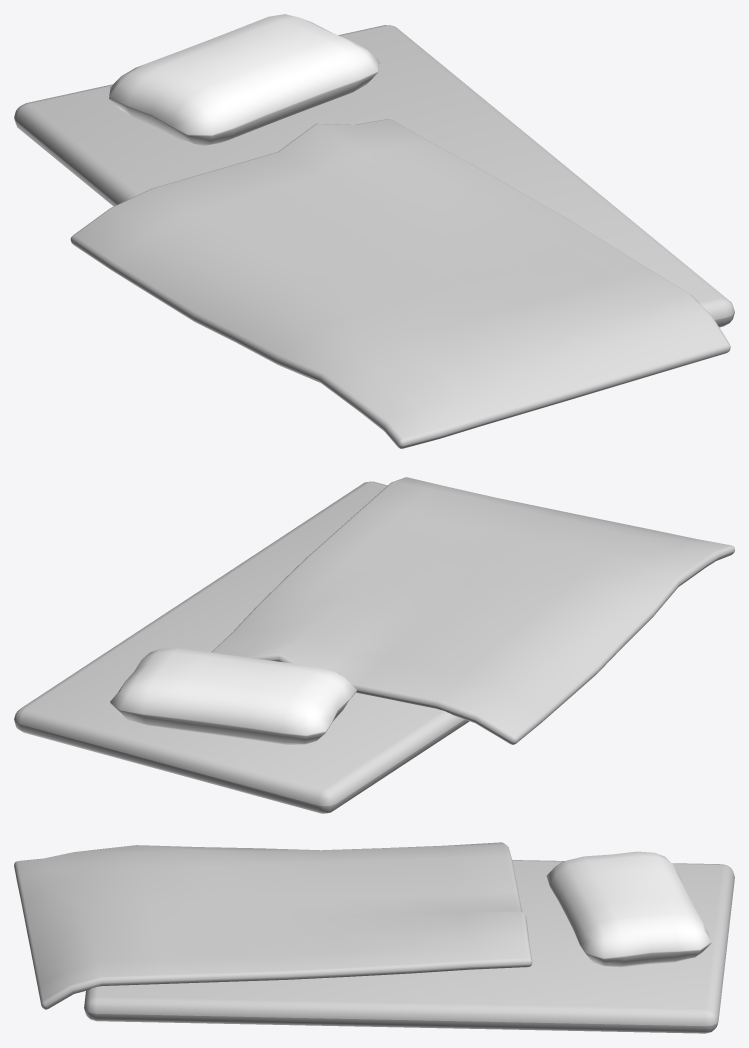
Rendered from bed3.fbx.
3 renders of one model, top to bottom at view 1: azimuth 30°, elevation 25°; view 2: azimuth 150°, elevation 25°; view 3: azimuth 270°, elevation 25°, orthographic. The views are drawn at different scales.
Visible parts, largest first — view 1: Plane.010, Plane.009, Cube.062; view 2: Plane.010, Plane.009, Cube.062; view 3: Plane.010, Plane.009, Cube.062.
Boxes of the visible parts, <box> form: Plane.010: <box>70,119,730,448</box>; Plane.009: <box>14,25,734,327</box>; Cube.062: <box>109,14,379,145</box>; Plane.010: <box>211,477,734,744</box>; Plane.009: <box>14,481,469,813</box>; Cube.062: <box>110,648,356,744</box>; Plane.010: <box>14,842,532,1009</box>; Plane.009: <box>84,860,734,1033</box>; Cube.062: <box>546,851,711,967</box>.
Size of the model in its own units: 340 by 59.85 by 559.
